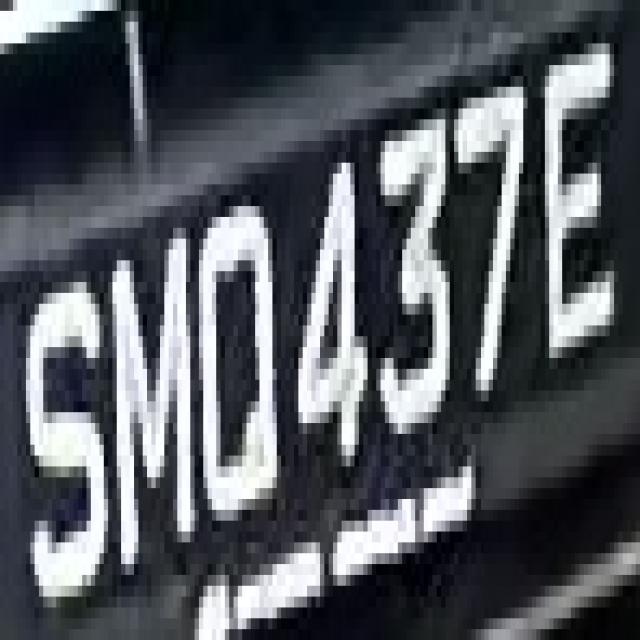3: (363, 98, 454, 444)
4: (264, 130, 376, 510)
7: (446, 65, 524, 456)
E: (536, 11, 623, 369)
M: (104, 195, 190, 564)
Q: (178, 163, 286, 532)
S: (26, 260, 112, 608)
